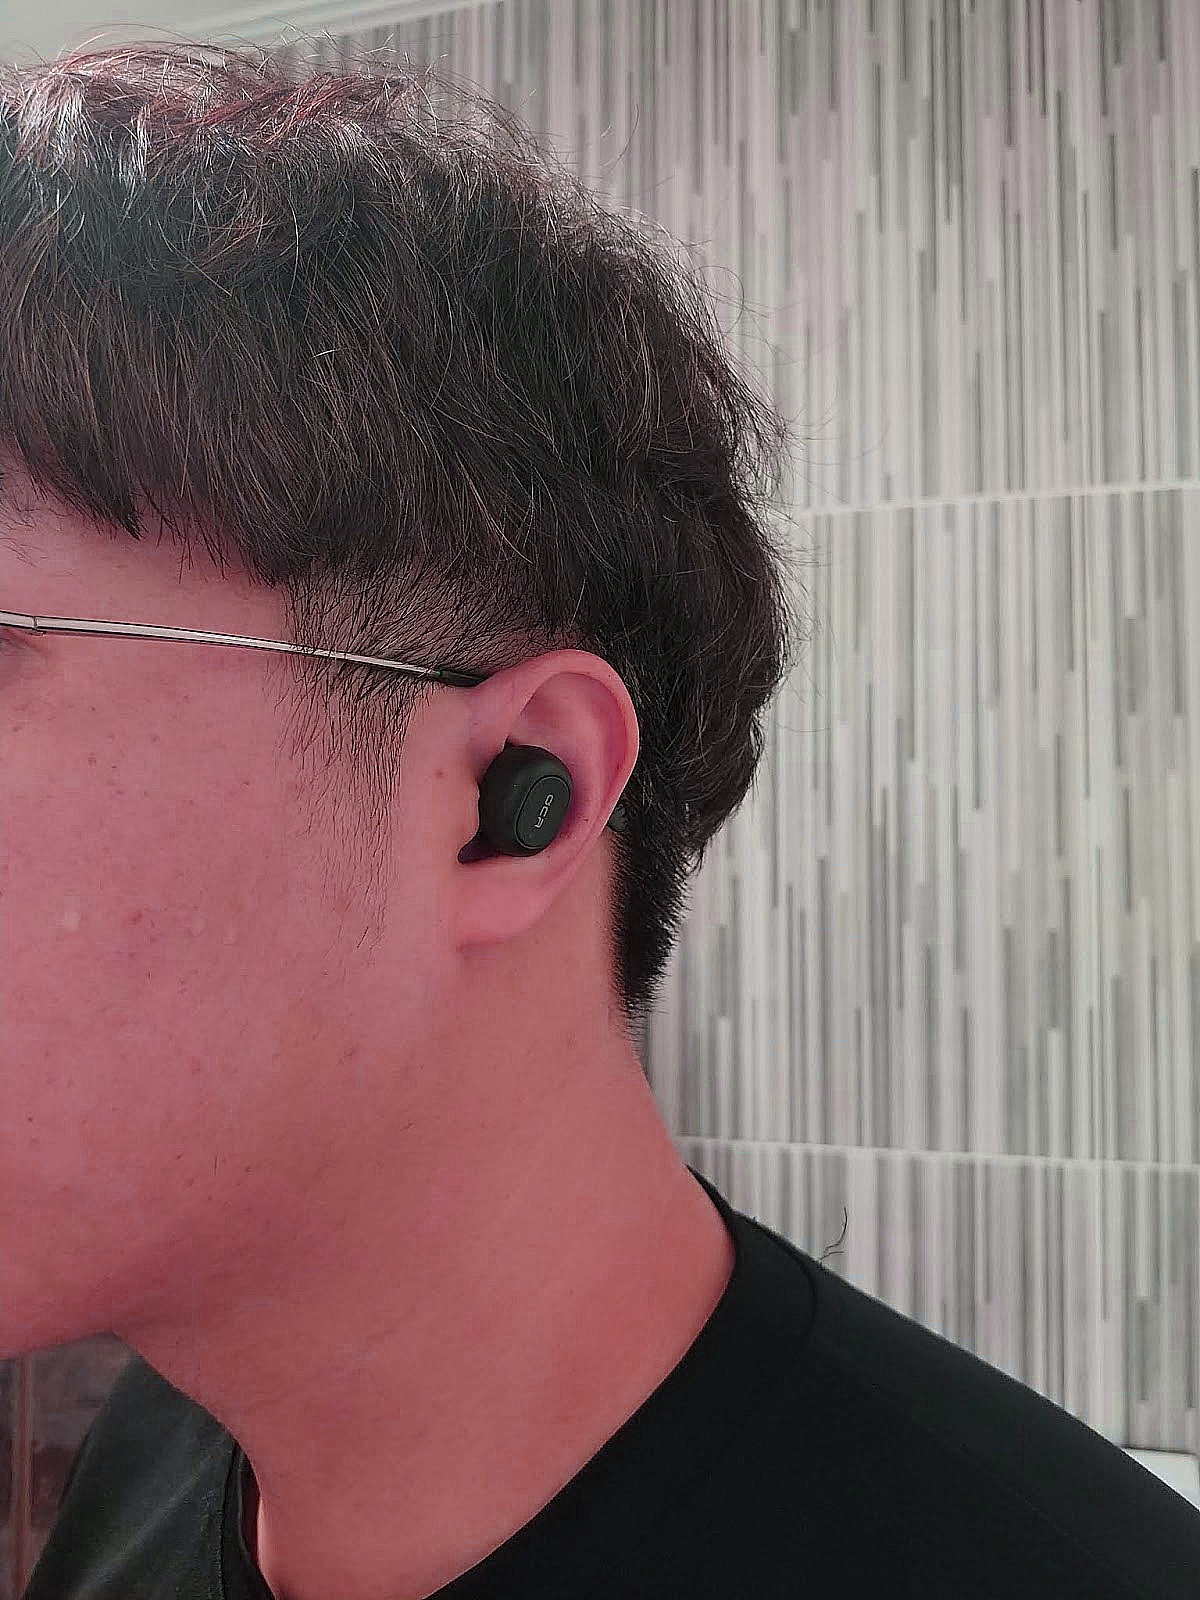earphone: (442, 648, 642, 946)
